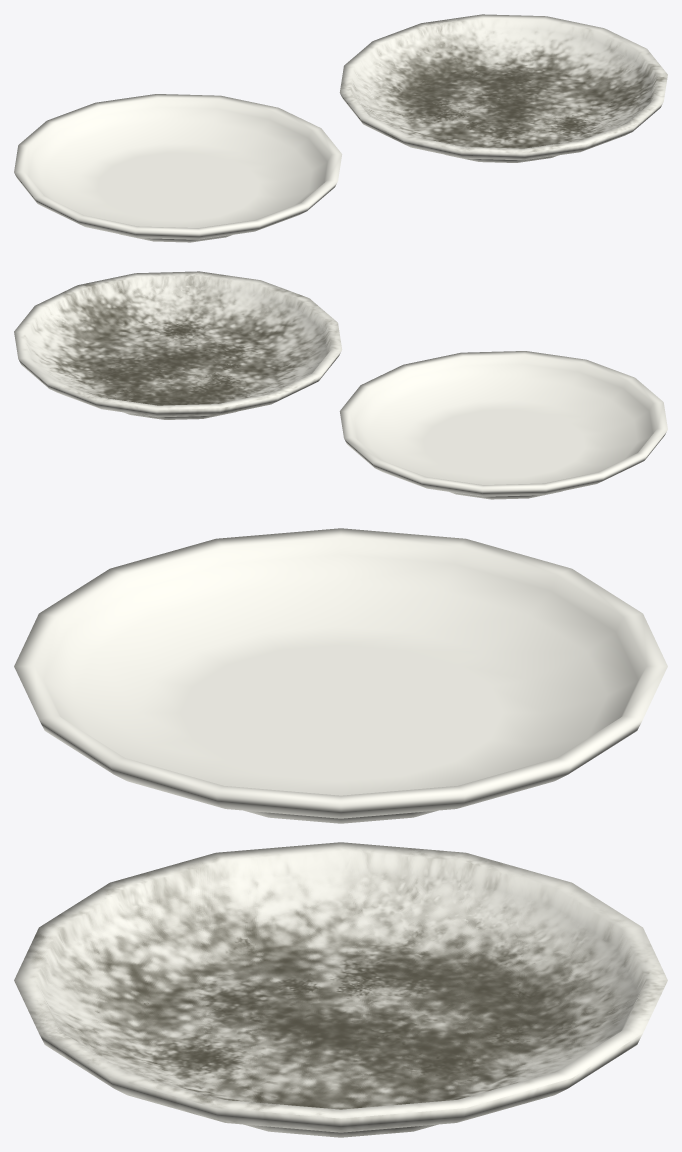
File: sara02.fbx
The picture shows the model from 3 angles, top to bottom: view 1: azimuth 30°, elevation 25°; view 2: azimuth 150°, elevation 25°; view 3: azimuth 270°, elevation 25°; orthographic projection. The views are drawn at different scales.
Visible parts, largest first — view 1: pSphere2, pSphere1; view 2: pSphere2, pSphere1; view 3: pSphere2, pSphere1.
Part boxes in pixels (left/top/right/bottom): pSphere2: left=339, top=14, right=667, bottom=162; pSphere1: left=14, top=94, right=342, bottom=242; pSphere2: left=14, top=271, right=342, bottom=419; pSphere1: left=339, top=351, right=667, bottom=499; pSphere2: left=14, top=842, right=667, bottom=1137; pSphere1: left=14, top=528, right=667, bottom=823.
Bounding box in the file's own units: 42.72 × 2.61 × 20.
2 materials, 2 textured.
